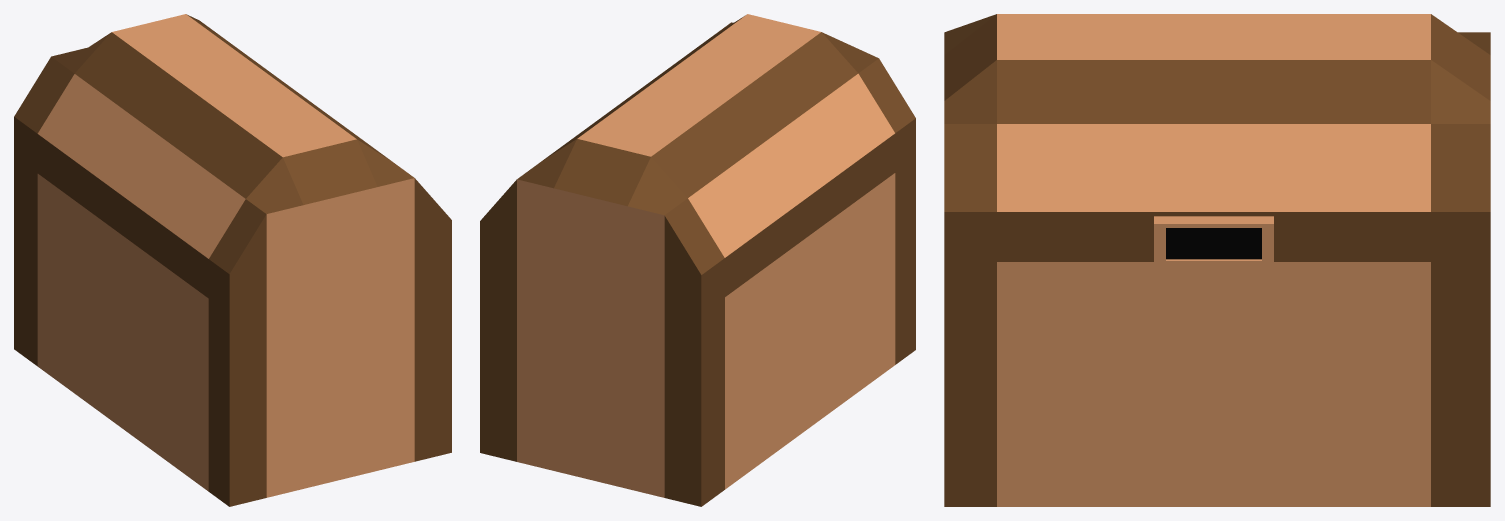
Rendered from chest.fbx.
3 renders of one model, left to right at view 1: azimuth 30°, elevation 25°; view 2: azimuth 150°, elevation 25°; view 3: azimuth 270°, elevation 25°, orthographic. The views are drawn at different scales.
Visible parts, largest first — view 1: Cube; view 2: Cube; view 3: Cube.
Part boxes in pixels (bbox=[...]): Cube: bbox=[14, 14, 451, 506]; Cube: bbox=[480, 14, 915, 506]; Cube: bbox=[944, 14, 1490, 506].
Bounding box in the file's own units: 211 × 272 × 336.
